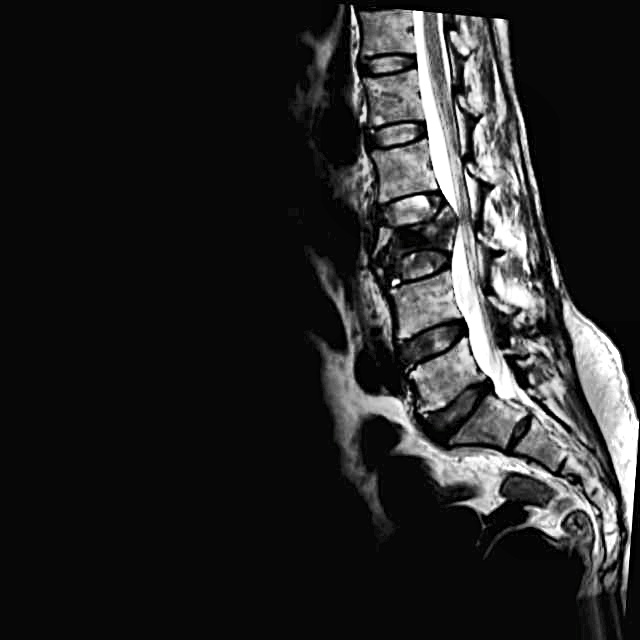Comminuted: (351, 168, 470, 297)
